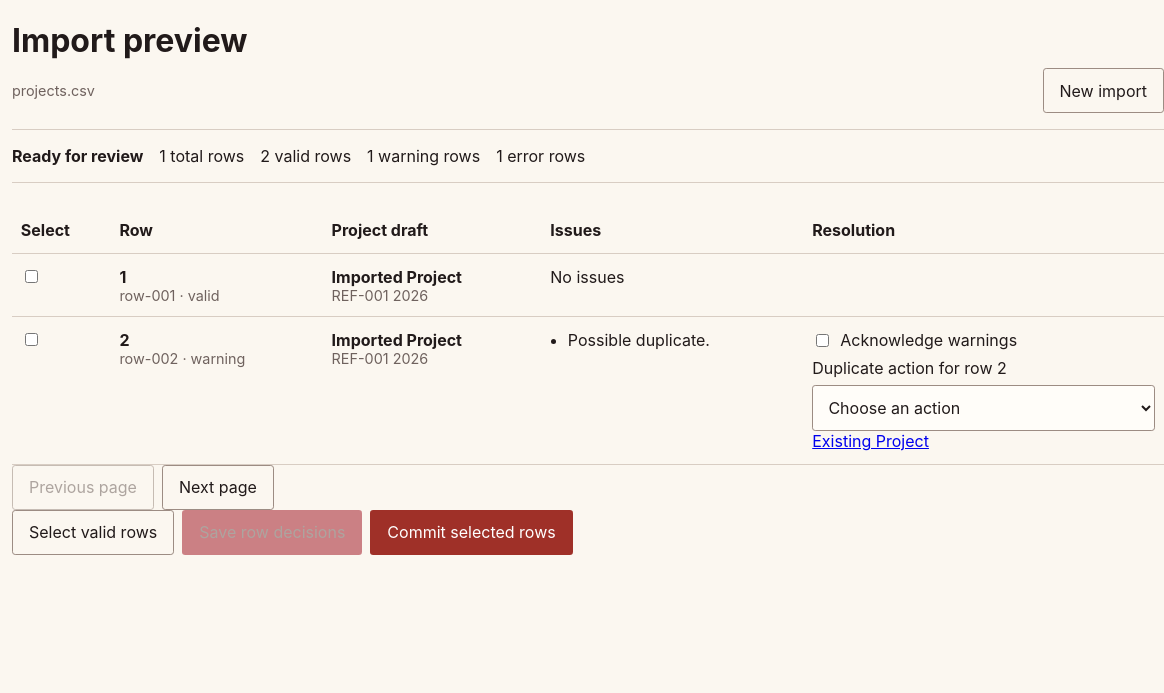
it: Import management › selects every valid row across pages in one persisted update
The width and height of the screenshot is (1164, 693).
Step 1. Click the button "Select valid rows" → {"x": 93, "y": 532}, box 12,510 -> 174,555
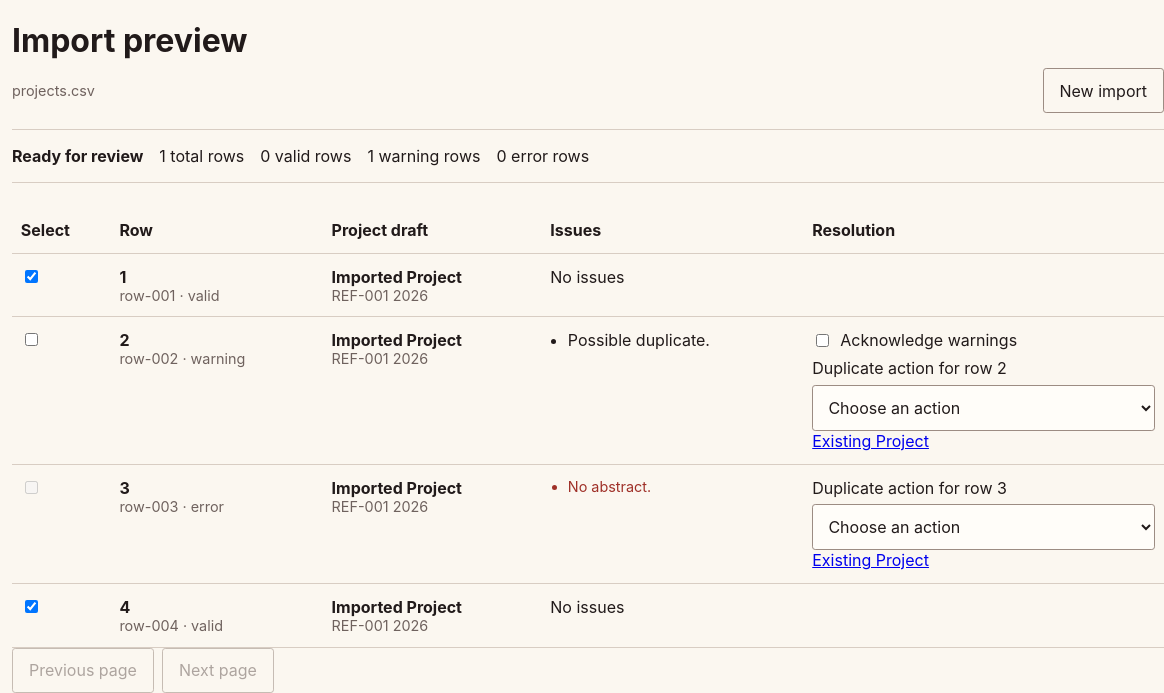
Now the checkbox named "Select row 1" is checked, box 25,270 -> 38,283
